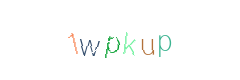1: (58, 0, 138, 80)
K: (88, 0, 168, 80)
P: (79, 0, 159, 80), (104, 0, 184, 80)
U: (89, 0, 169, 80)
W: (61, 0, 141, 80)
